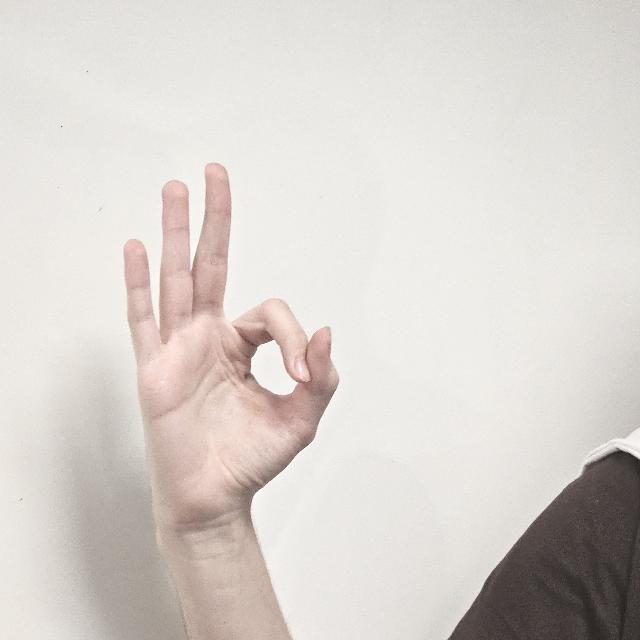Bolinha: (116, 160, 338, 538)
